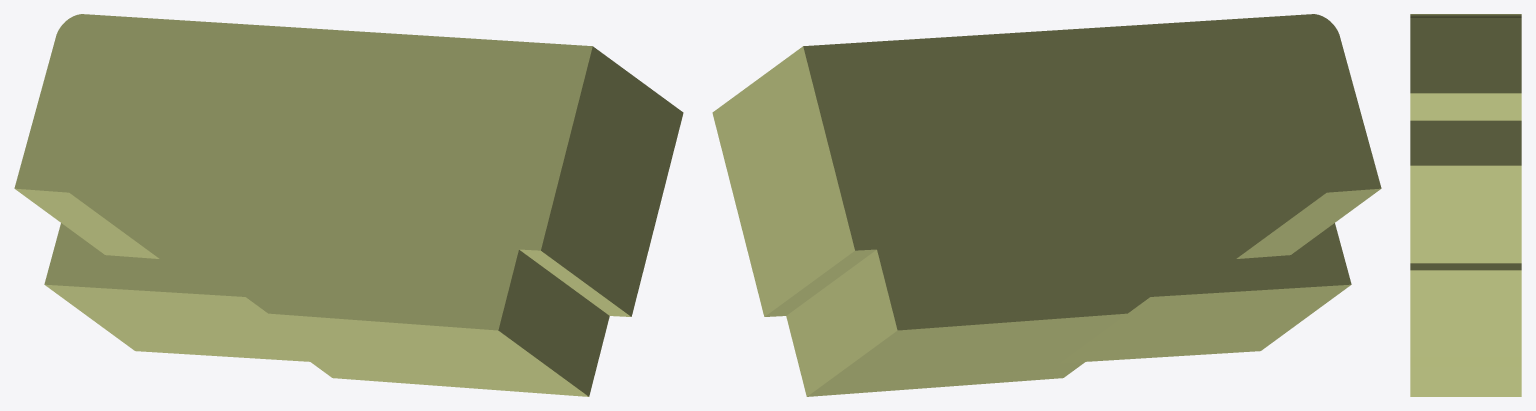
The picture shows the model from 3 angles, left to right: view 1: azimuth 30°, elevation 25°; view 2: azimuth 150°, elevation 25°; view 3: azimuth 270°, elevation 25°; orthographic projection. The views are drawn at different scales.
Parts seen in each view (by area): view 1: 0_0_1_3_2_1_2_1_2; view 2: 0_0_1_3_2_1_2_1_2; view 3: 0_0_1_3_2_1_2_1_2.
Part boxes in pixels (box(x1,y1,x2,y2)): 0_0_1_3_2_1_2_1_2: box(14, 14, 683, 396); 0_0_1_3_2_1_2_1_2: box(712, 14, 1381, 396); 0_0_1_3_2_1_2_1_2: box(1410, 14, 1521, 396).
Size of the model in its own units: 33.1 by 22.89 by 9.
